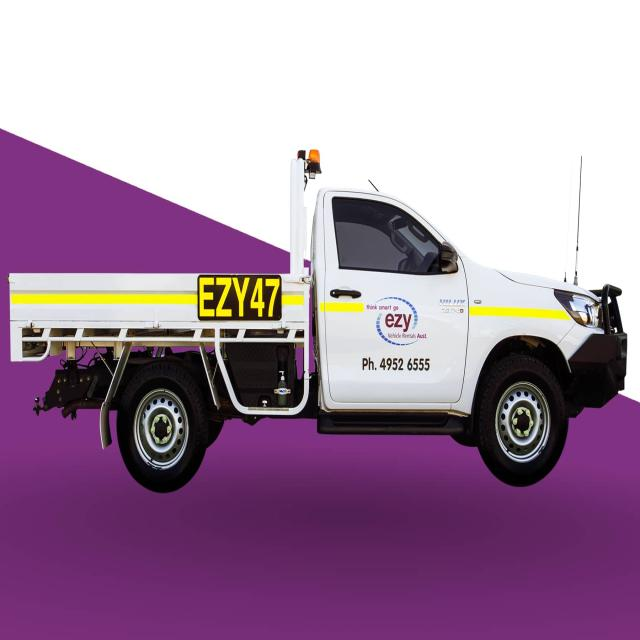light_vehicle: (5, 139, 629, 492)
